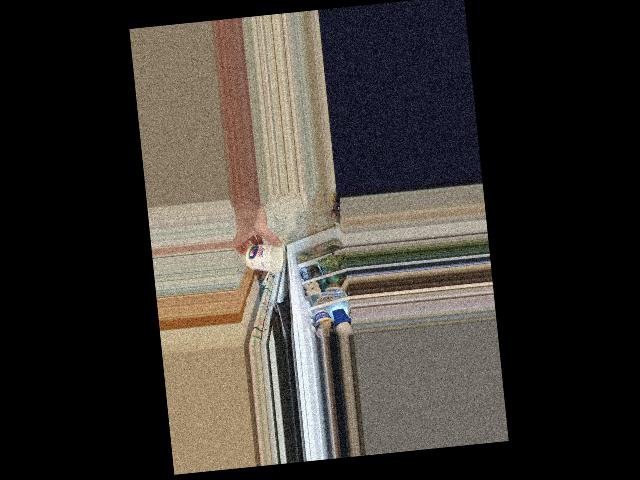cotage: (245, 238, 284, 276)
